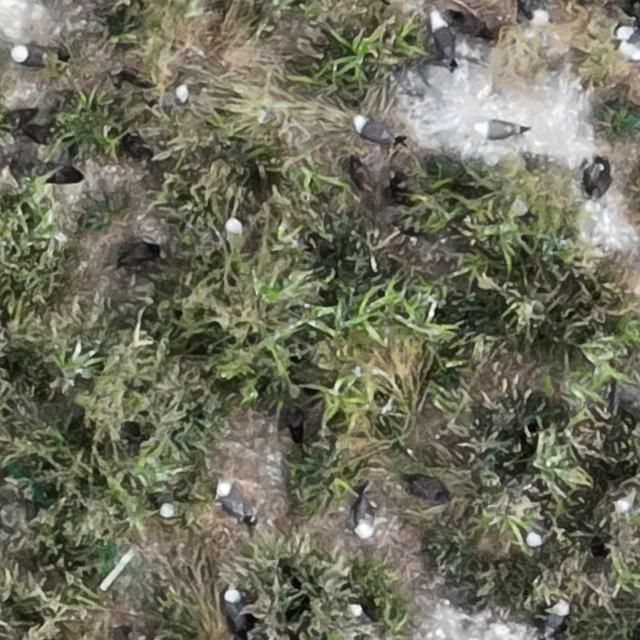umineko: (432, 10, 462, 70), (354, 119, 396, 143), (219, 485, 248, 518), (474, 120, 524, 138), (160, 500, 196, 521), (354, 501, 374, 535), (169, 85, 214, 100), (522, 2, 550, 26), (224, 587, 243, 620), (15, 46, 49, 64), (547, 602, 567, 630), (528, 526, 546, 548), (224, 218, 244, 236)
